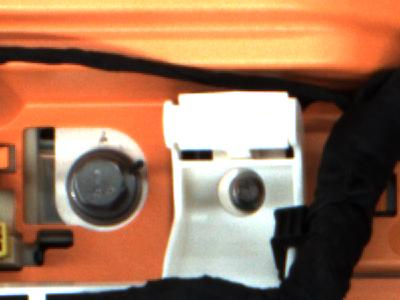nut_b: (57, 149, 147, 222)
